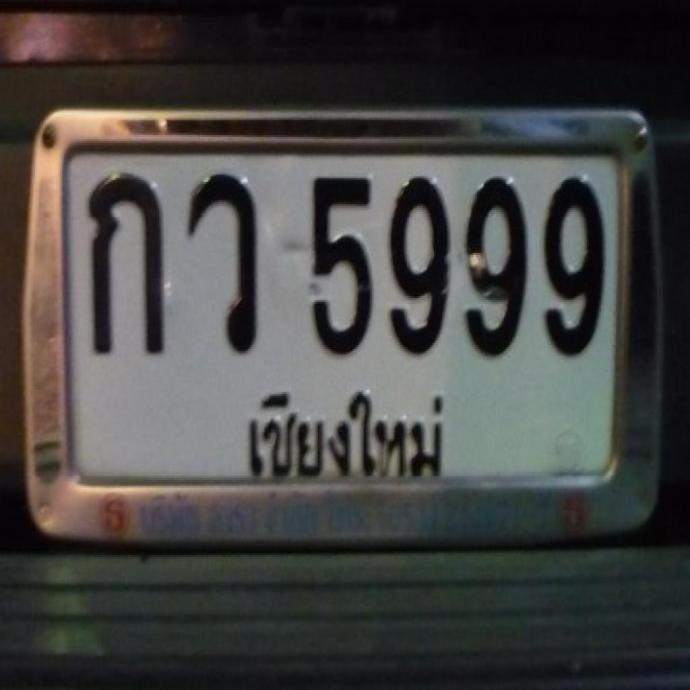5: (296, 167, 384, 354)
9: (529, 169, 617, 356), (374, 168, 461, 355), (460, 176, 533, 356)
A01: (71, 164, 172, 354)
A37: (174, 166, 267, 353)
CMI: (219, 370, 461, 498)
